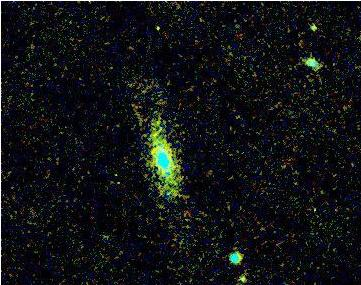star: (298, 13, 328, 43)
